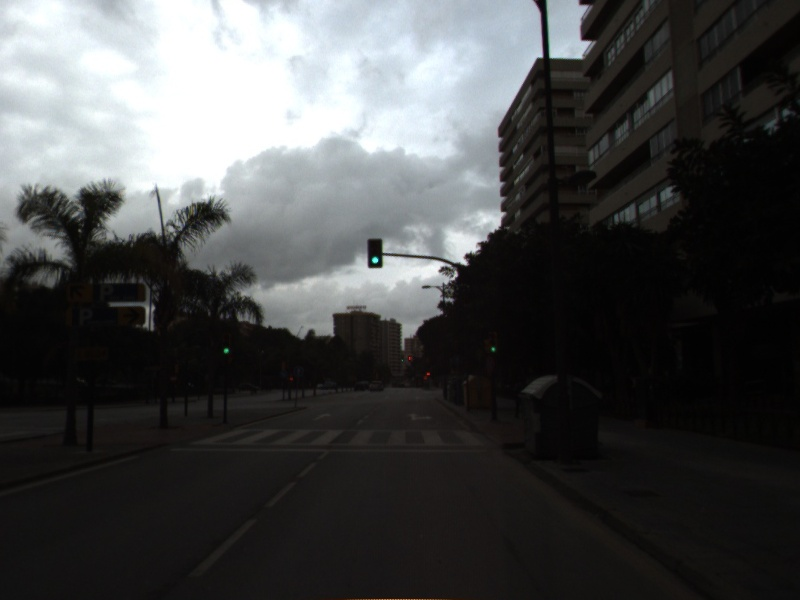STRAIGHT: (310, 411, 334, 423)
STRAIGHT_RIGHT: (404, 411, 435, 423)
